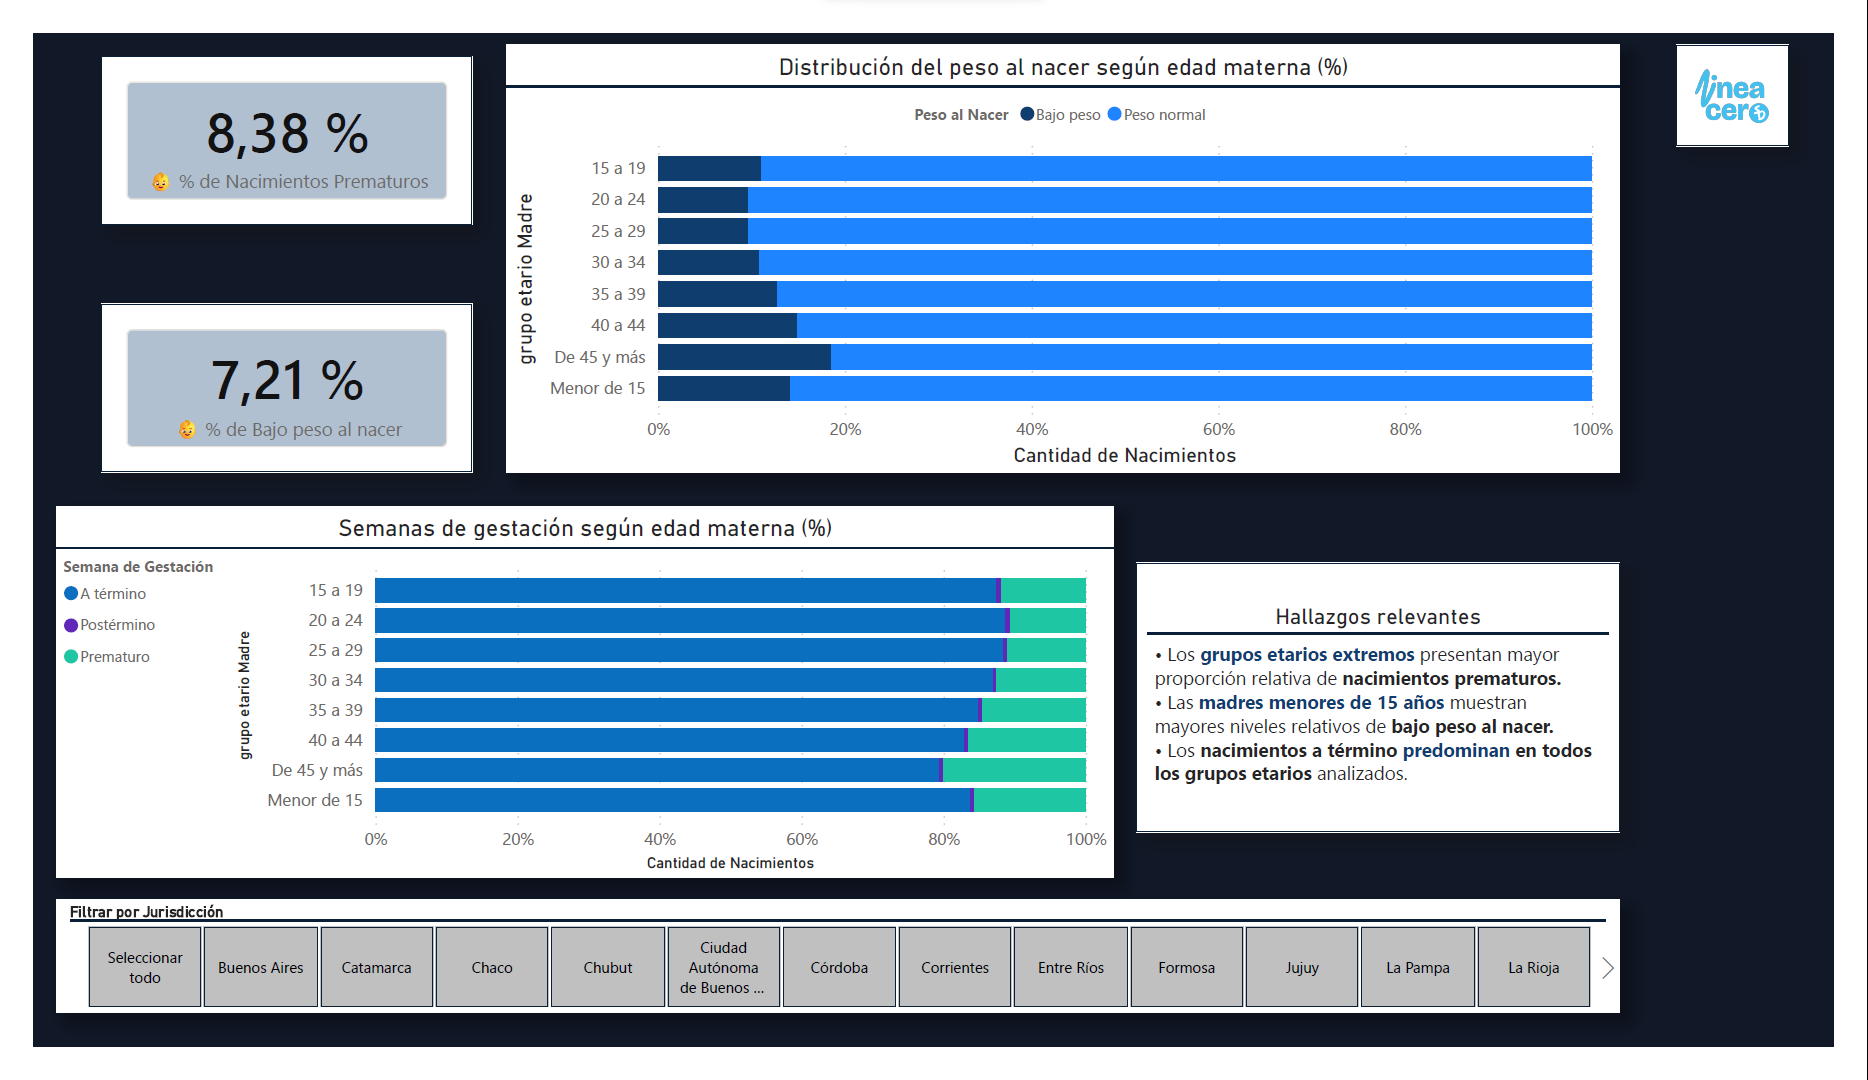

The dashboard page shown, as its layout file describes it:
{"tool":"powerbi","page":{"name":"Tipo de Parto y Salud","canvas":[1280,720],"ordinal":2},"visuals":[{"type":"hundredPercentStackedBarChart","title":"Distribución del peso al nacer según edad materna (%)","fields":{"Category":["dim dim_edad_madre.edad_madre_grupo"],"Y":["Sum(fact fact_nacimientos.nacimientos_cantidad)"],"Series":["dim dim_peso.Grupo_Peso"]},"box":[336,8,792,304],"z":0},{"type":"hundredPercentStackedBarChart","title":"Semanas de gestación según edad materna (%)","fields":{"Category":["dim dim_edad_madre.edad_madre_grupo"],"Y":["Sum(fact fact_nacimientos.nacimientos_cantidad)"],"Series":["dim dim_semana_gestacion.Grupo_Gestacion"]},"box":[16,336,752,264],"z":1000},{"type":"image","box":[1168,8,80,72],"z":2000},{"type":"cardVisual","title":"Nacimientos en madres menores de 20 años","fields":{"Data":["dim dim_edad_madre.Porcentaje_Prematuros"]},"box":[48,16,264,120],"z":3000},{"type":"shape","box":[784,376,344,192],"z":3000,"group":"g1"},{"type":"cardVisual","title":"Nacimientos en madres menores de 20 años","fields":{"Data":["dim dim_edad_madre.Porcentaje_Bajo_Peso"]},"box":[48,192,264,120],"z":4000},{"type":"textbox","title":"Hallazgos relevantes","box":[792,400,328,144],"z":4000,"group":"g1"},{"type":"slicer","fields":{"Values":["dim dim_jurisdiccion.jurisdicion_residencia_nombre"]},"box":[16,616,1112,80],"z":5000},{"type":"group","id":"g1","title":"Grupo 1","box":[784,376,344,192],"z":6000}]}

Visuals, with their boxes in screenshot pixels (x1, y1, x2, y2), scaled from the page's 1280x720 canvas onto the 1868x1080 screenshot:
"Distribución del peso al nacer según edad materna (%)" hundredPercentStackedBarChart: [490,12,1646,468]
"Semanas de gestación según edad materna (%)" hundredPercentStackedBarChart: [23,504,1121,900]
image: [1705,12,1821,120]
"Nacimientos en madres menores de 20 años" cardVisual: [70,24,455,204]
shape: [1144,564,1646,852]
"Nacimientos en madres menores de 20 años" cardVisual: [70,288,455,468]
"Hallazgos relevantes" textbox: [1156,600,1634,816]
slicer - dim dim_jurisdiccion.jurisdicion_residencia_nombre: [23,924,1646,1044]
"Grupo 1" group: [1144,564,1646,852]
